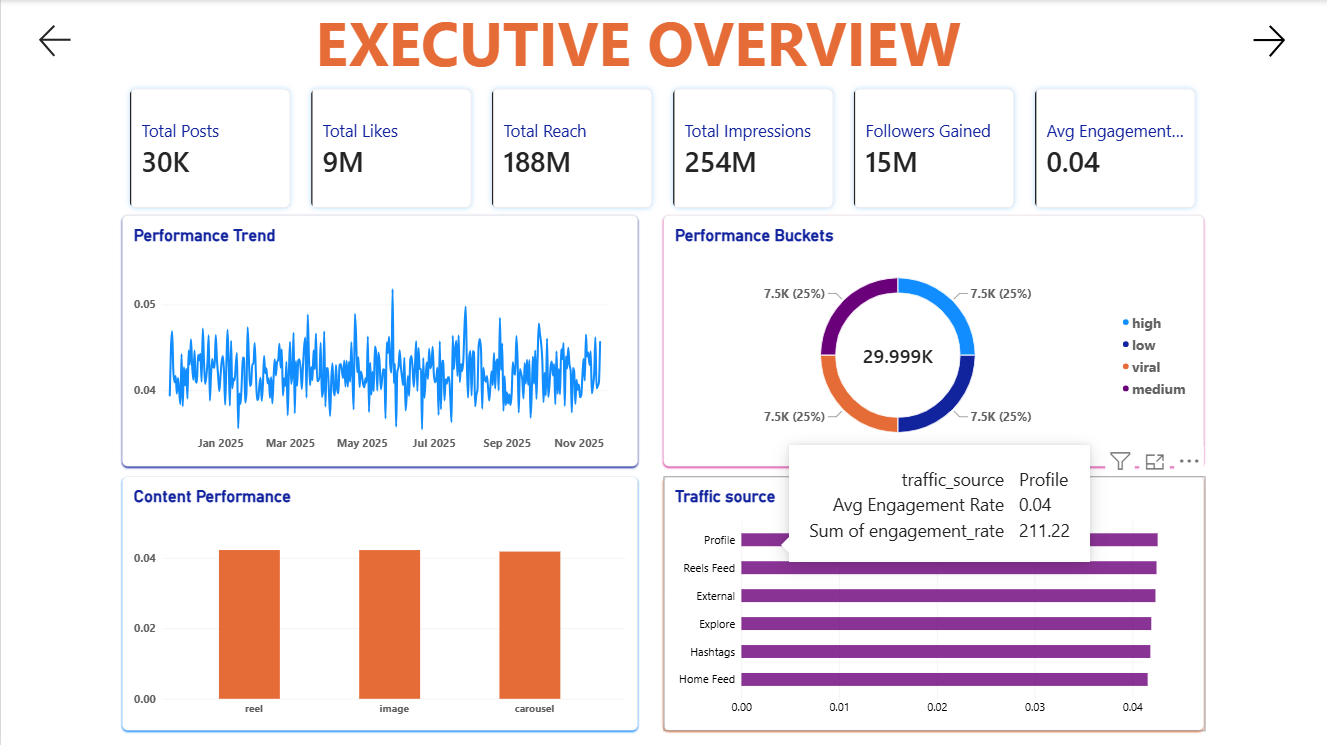

This screenshot's page, from the dashboard's own definition file:
{"tool":"powerbi","page":{"name":"EXECUTIVE OVERVIEW","canvas":[1920,1080],"ordinal":1},"visuals":[{"type":"textbox","box":[266,0,1312,117.6],"z":0},{"type":"cardVisual","fields":{"Data":["Instagram_Analytics.Total Posts","Instagram_Analytics.Total Likes","Instagram_Analytics.Total Reach","Instagram_Analytics.Total Impressions","Instagram_Analytics.Followers Gained","Instagram_Analytics.Avg Engagement Rate"]},"box":[176,118,1566,194],"z":1000},{"type":"lineChart","title":"Performance Trend","fields":{"Category":["Instagram_Analytics.post_date.Variation.Date Hierarchy.Year"],"Y":["Avg(Instagram_Analytics.engagement_rate)"]},"box":[176,312,746,364],"z":2000},{"type":"columnChart","title":"Content Performance","fields":{"Category":["Instagram_Analytics.media_type"],"Y":["Avg(Instagram_Analytics.engagement_rate)"]},"box":[176,690,746,368],"z":3000},{"type":"donutChart","title":"Performance Buckets","fields":{"Category":["Instagram_Analytics.performance_bucket_label"],"Y":["CountNonNull(Instagram_Analytics.post_id)"]},"box":[960,312,782,364],"z":4000},{"type":"barChart","title":"Traffic source","fields":{"Category":["Instagram_Analytics.traffic_source"],"Y":["Instagram_Analytics.Avg Engagement Rate"]},"box":[960,690,782,368],"z":5000},{"type":"actionButton","box":[29.2,18.8,100,82],"z":6000},{"type":"actionButton","box":[1773.9,29.2,123.1,60.5],"z":7000}]}

Visuals, with their boxes in screenshot pixels (x1, y1, x2, y2), scaled from the page's 1920x1080 canvas onto the 1327x745 screenshot:
textbox: l=184, t=0, r=1091, b=81
cardVisual - Instagram_Analytics.Total Posts x Instagram_Analytics.Total Likes: l=122, t=81, r=1204, b=215
"Performance Trend" lineChart: l=122, t=215, r=637, b=466
"Content Performance" columnChart: l=122, t=476, r=637, b=730
"Performance Buckets" donutChart: l=664, t=215, r=1204, b=466
"Traffic source" barChart: l=664, t=476, r=1204, b=730
actionButton: l=20, t=13, r=89, b=70
actionButton: l=1226, t=20, r=1311, b=62
